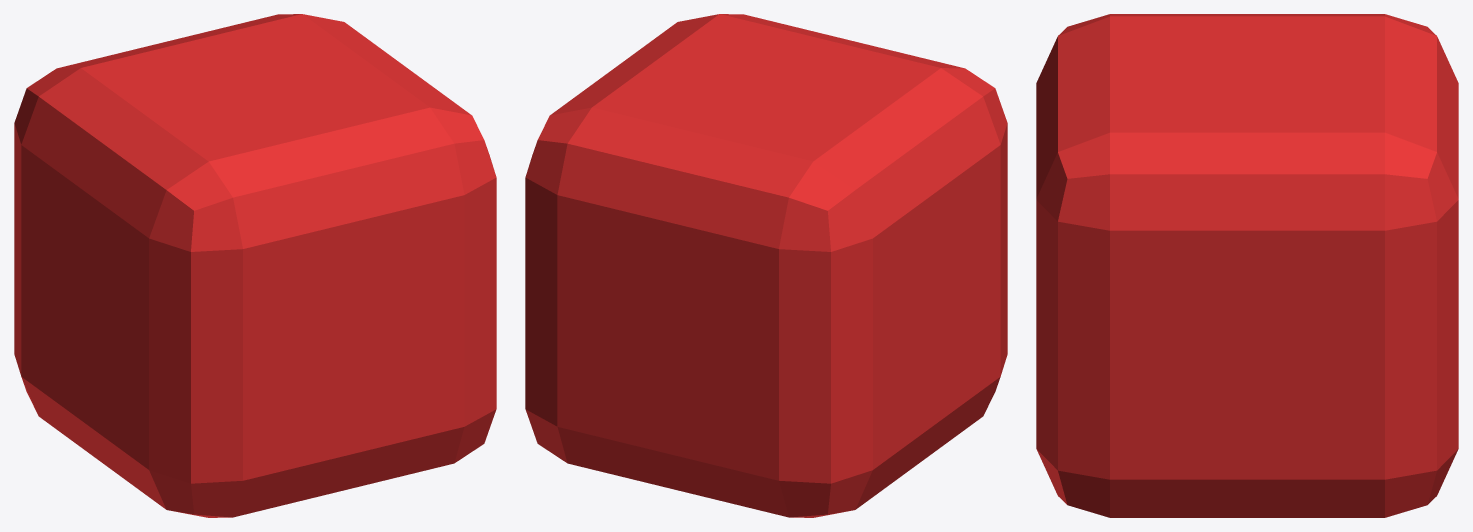
The model's file is objetivo 1.fbx.
3 renders of one model, left to right at view 1: azimuth 30°, elevation 25°; view 2: azimuth 150°, elevation 25°; view 3: azimuth 270°, elevation 25°, orthographic. The views are drawn at different scales.
Parts seen in each view (by area): view 1: Cube; view 2: Cube; view 3: Cube.
Part boxes in pixels (<box>): Cube: <box>14,14,496,517</box>; Cube: <box>525,14,1007,517</box>; Cube: <box>1036,14,1458,517</box>.
Size of the model in its own units: 50 by 50 by 50.
